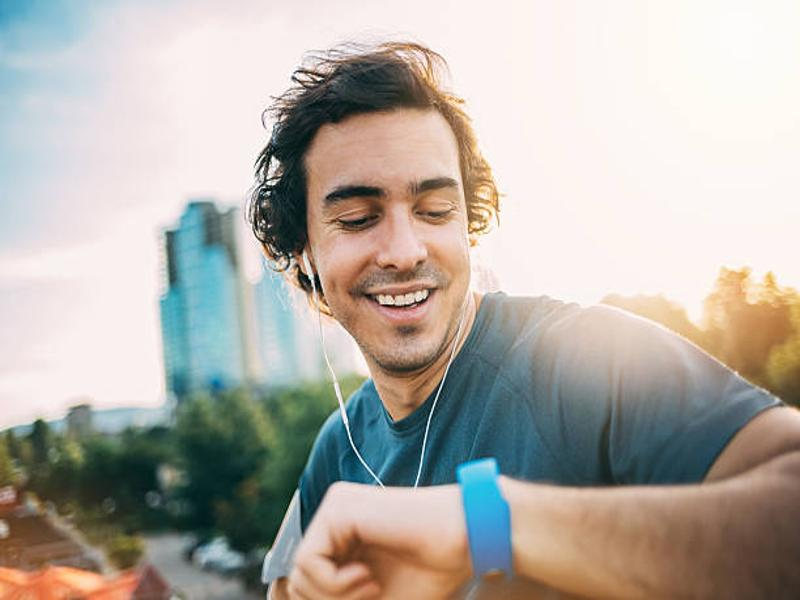watch: (455, 458, 515, 585)
